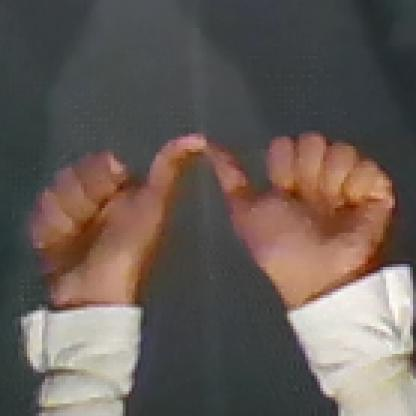A: (17, 120, 396, 308)
